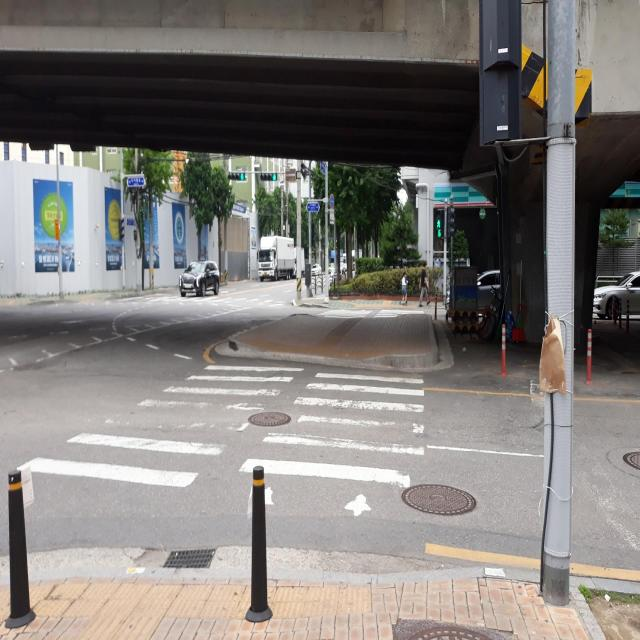초록불: (436, 216, 444, 238)
횡단보도: (14, 360, 427, 522)
